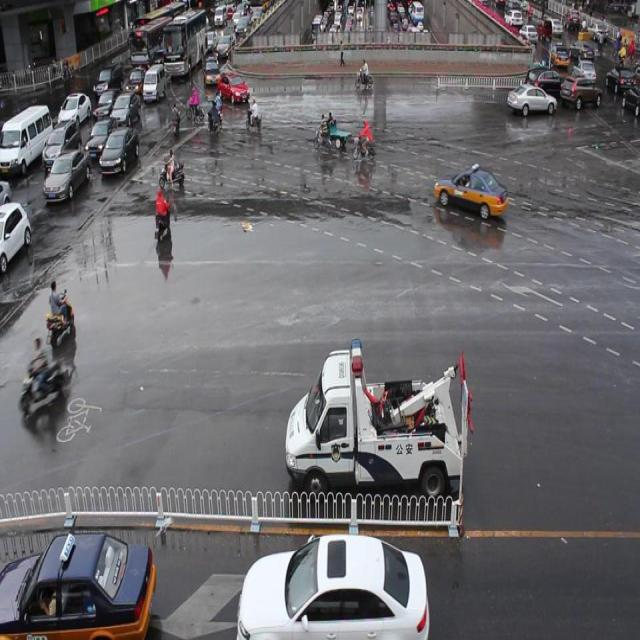bus: (285, 338, 464, 498)
car: (431, 168, 507, 218), (506, 82, 556, 117), (524, 67, 564, 100), (216, 70, 251, 104)
